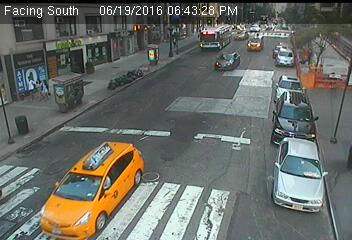neg: (280, 35, 294, 54)
pos: (170, 36, 181, 49)
